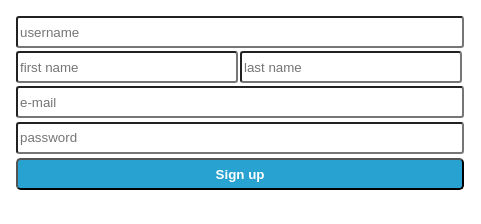
Test: App › render username already exist message
Click the button "Sign up".
click(240, 174)  # box x1=16 y1=158 x2=464 y2=190
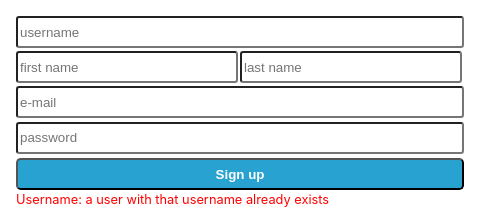
Expected: the text "Username: a user with that username already exists" is shown, x1=16 y1=192 x2=329 y2=207
